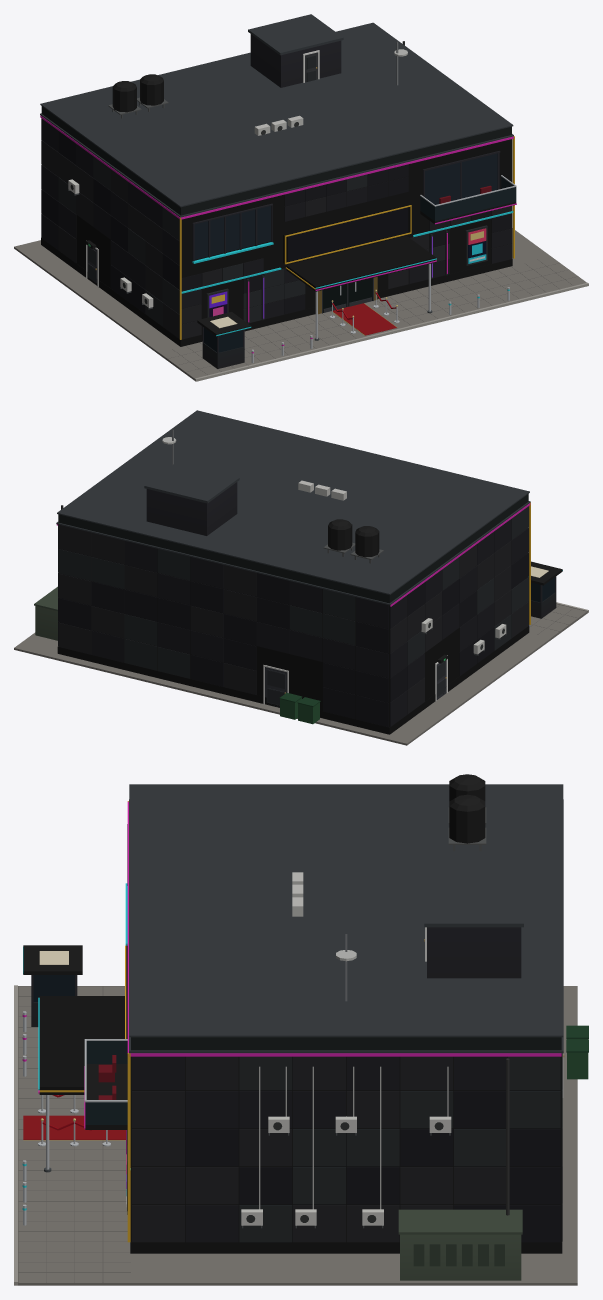
Rendered from ns_club.glb.
3 renders of one model, top to bottom at view 1: azimuth 30°, elevation 25°; view 2: azimuth 150°, elevation 25°; view 3: azimuth 270°, elevation 25°, orthographic. The views are drawn at different scales.
Visible parts, largest first — view 1: ns_club; view 2: ns_club; view 3: ns_club.
Boxes of the visible parts, x1=… form: ns_club: x1=14, y1=14, x2=588, y2=381; ns_club: x1=14, y1=410, x2=588, y2=745; ns_club: x1=14, y1=774, x2=588, y2=1285.
Bounding box in the file's own units: 26.1 × 11.8 × 21.37.
